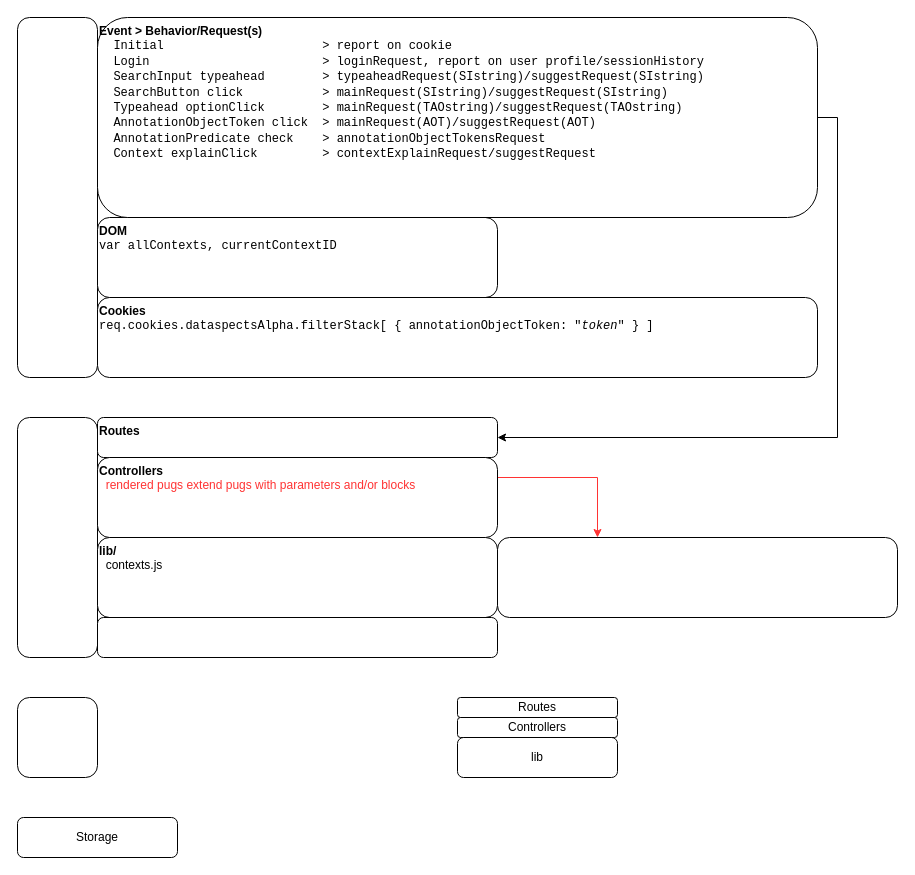
Some shapes in this 915 by 875 pixel diagram are drawn without their labels. The shapes that lost their labels are listed below. From the top down, each one's box as (x1, y1, x2, y2) in pixels, then its label:
(16, 16, 98, 378): Client
(16, 416, 98, 658): UI
(496, 536, 898, 618): views/
(96, 616, 498, 658): Session
(16, 696, 98, 778): Daemon
